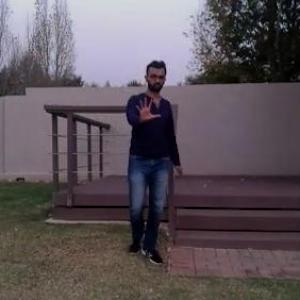follow_hand: (133, 92, 163, 125)
